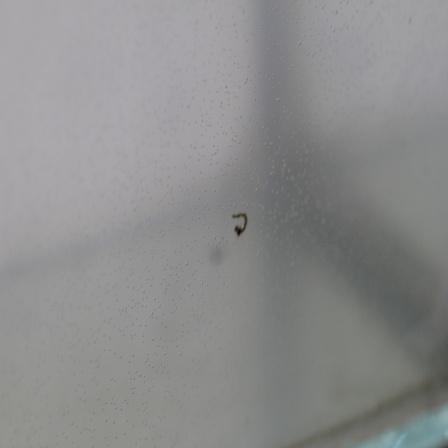Jentik-Nyamuk: (228, 209, 253, 241)
